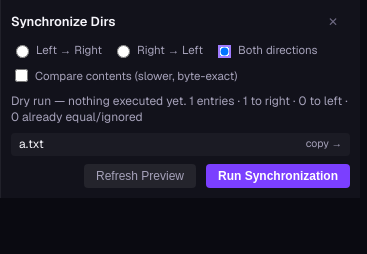
Scenario: SyncPanel FER-111/112 controls › shows the busy message when the folders are locked by an automation and runs nothing (P0.4)
Click the button "Run Synchronization": (278, 176) [206,164,350,188]
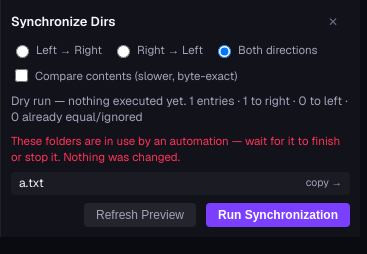
Now the message with test id "sync-lease-busy" is shown, box [11,133,350,164]
Now the message with test id "sync-lease-busy" shows "in use by an automation", box [11,133,340,164]
Now the message with test id "sync-lease-busy" shows "Nothing was changed", box [11,133,340,164]
